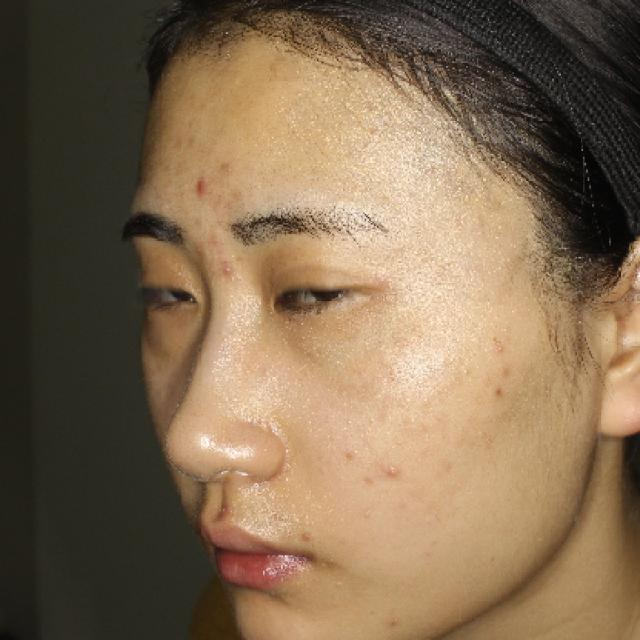Acne: (186, 166, 217, 208), (376, 454, 414, 484), (289, 522, 323, 549)
Blackheads: (483, 381, 514, 407)
